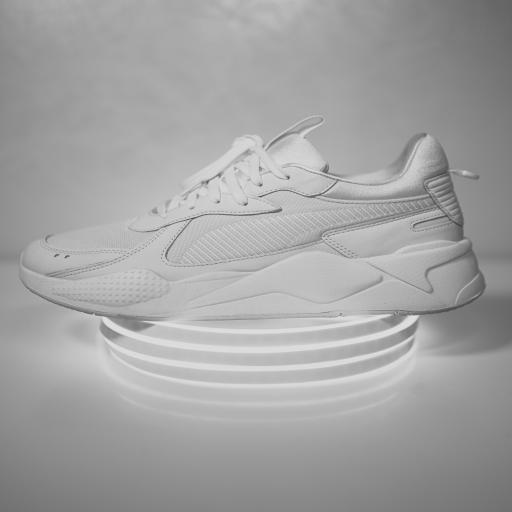shoe: (20, 117, 484, 320)
